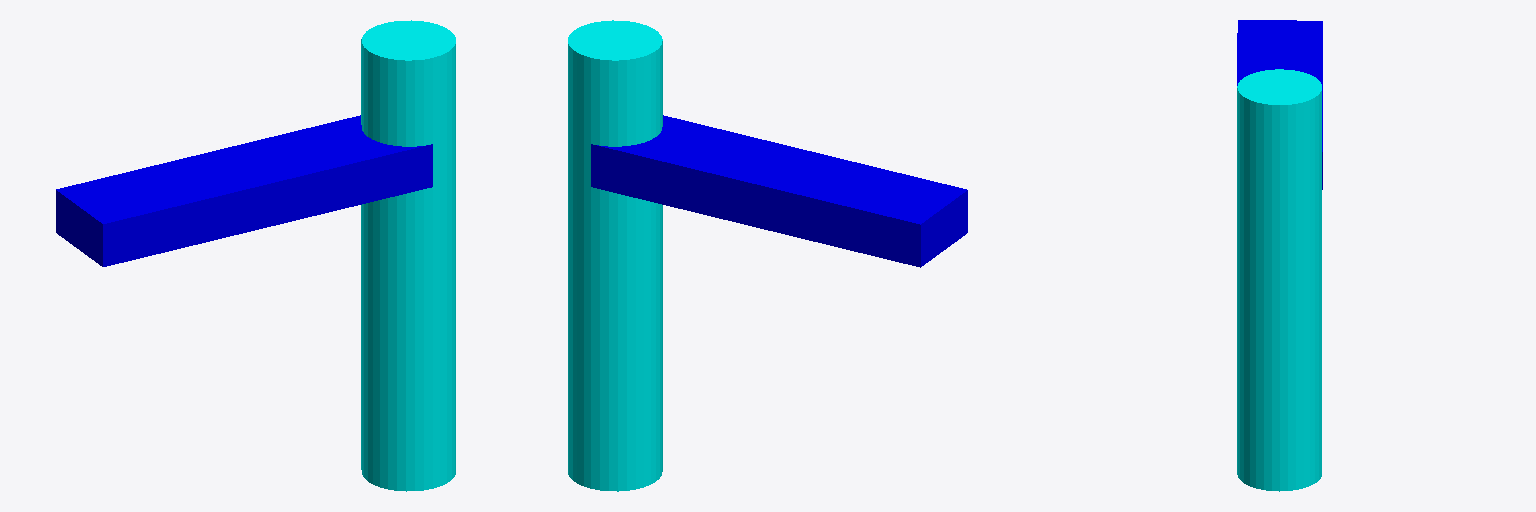
The robot description file, URDF, robot "mmp_panda":
<?xml version='1.0' encoding='utf-8'?>

<robot name="mmp_panda" version="1.0">

  <!-- GROUND LINK -->
  <link name ="ground_link">
    <inertial>
      <origin xyz="0.0 0.0 0.0" rpy="0 0 0" />
      <mass value="0.001" />
      <inertia ixx="1E-06" ixy="0.0" ixz="0.0" iyy="1E-06" iyz="0.0" izz="1E-06" />
    </inertial>
  </link>


  <!-- MOBILE BASE LINKS -->
  <link name ="base_x">
    <inertial>
      <origin xyz="0.0 0.0 0.0" rpy="0 0 0" />
      <mass value="0.001" />
      <inertia ixx="1E-06" ixy="0.0" ixz="0.0" iyy="1E-06" iyz="0.0" izz="1E-06" />
    </inertial>
  </link>

  <link name = "base_y">
    <inertial>
      <origin xyz="0.0 0.0 0.0" rpy="0 0 0" />
      <mass value = "0.001" />
      <inertia ixx="1E-06" ixy="0.0" ixz="0.0" iyy="1E-06" iyz="0.0" izz="1E-06" />
    </inertial>
  </link>

  <link name = "base_theta">
    <inertial>
      <origin xyz="0.0 0.0 0.0" rpy="0 0 0" />
      <mass value = "2230" />
      <inertia ixx="285" ixy="0.0" ixz="0.0" iyy="546" iyz="0.0" izz="700" />
    </inertial>
    <visual>
      <geometry>
        <mesh filename="../../../model/jointcart2/joint cart2.obj" />
      </geometry>
    </visual>
  </link>


  <!-- MOBILE BASE + LINK 0 OF PANDA ARM -->
  <link name = "base_fix">
    <inertial>
      <origin xyz="0.0 0.0 0.0" rpy="0 0 0" />
      <mass value = "0.001" />
      <inertia ixx="1E-06" ixy="0.0" ixz="0.0" iyy="1E-06" iyz="0.0" izz="1E-06" />
    </inertial>
  </link>

  <!--<link name = "base_z">
    <inertial>
      <origin xyz="0.0 0.0 0.0" rpy="0 0 0" />
      <mass value = "64.6" />
      <inertia ixx="1.721" ixy="0.0" ixz="0.0" iyy="1.712" iyz="0.0" izz="2.030" />
    </inertial>
    <visual>
      <geometry>
        <mesh filename="../../../model/jointcart2/joint cart2.obj" />
      </geometry>
    </visual>
  </link> -->

<!-- PRISMATIC LINK -->
  <link name="linkTool">
    <inertial>
      <origin xyz="0 0 0" rpy="0 0 0" />
      <mass value="0.02" />
      <inertia ixx="0.3" iyy="0.3" izz="0.3" ixy="0" ixz="0" iyz="0" />
    </inertial>

    <visual>
      <origin xyz="0.0 0.0 0.0" rpy="0 0 0" />
      <geometry>
        <cylinder radius="0.01" length="0.1" />
      </geometry>
        <material name="material_cyan">
          <color rgba="0 1.0 1.0 1.0" />
        </material>
    </visual>
    <visual>
      <origin xyz="0.04 0.0 0.025" rpy="0 0 0" />
      <geometry>
        <box size="0.08 0.02 0.01" />
      </geometry>
        <material name="material_blue">
          <color rgba="0 0 1 1"/>
        </material>
    </visual>

    <collision>
      <origin xyz="0.0 0.0 0.0" rpy="0 0 0" />
      <geometry>
        <cylinder radius="0.01" length="0.1" />
      </geometry>
        <material name="material_cyan">
          <color rgba="0 1.0 1.0 1.0" />
        </material>
    </collision>
    <collision>
      <origin xyz="0.04 0.0 0.025" rpy="0 0 0" />
      <geometry>
        <box size="0.08 0.02 0.01" />
      </geometry>
        <material name="material_blue">
          <color rgba="0 0 1 1"/>
        </material>
    </collision>
  </link>

  <!-- JOINTS -->
  <joint name = "base_prismatic_x" type = "prismatic">
    <origin xyz = "0 0 0" rpy = "0 0 0"/>
    <parent link = "ground_link" />
    <child link= "base_x"/>
    <axis xyz = "1 0 0" />
    <calibration rising="0.0" />
    <limit effort="87" lower="-5" upper="5" velocity="0.2" />
  </joint>

  <joint name = "base_prismatic_y" type = "prismatic">
    <origin xyz = "0 0 0" rpy = "0 0 0"/>
    <parent link = "base_x" />
    <child link= "base_y"/>
    <axis xyz = "0 1 0" />
    <calibration rising="0.0" />
    <limit effort="87" lower="-5" upper="5" velocity="0.2" />
  </joint>

  <joint name = "base_revolute" type = "revolute">
    <origin xyz = "0 0 0.0" rpy = "0 0 0"/>
    <parent link = "base_y" />
    <child link= "base_theta"/>
    <axis xyz = "0 0 1" />
    <calibration falling="0.0" />
    <limit effort="87" lower="-2.8973" upper="2.8973" velocity="2.1750" />
  </joint>

  <joint name = "base_fixed" type = "fixed">
    <origin xyz = "0 0 0" rpy = "0 0 1.57079632679"/>
    <parent link = "base_theta" />
    <child link= "base_fix"/>
    <axis xyz = "0 0 1" />
    <calibration rising="0.0" />
    <limit effort="87" lower="0" upper="2.0" velocity="0.2" />
  </joint>

  <!--<joint name = "base_prismatic_z" type = "prismatic">
    <origin xyz = "0 0 0" rpy = "0 0 0"/>
    <parent link = "base_fix" />
    <child link= "base_z"/>
    <axis xyz = "0 0 1" />
    <calibration rising="0.0" />
    <limit effort="87" lower="0" upper="2.0" velocity="0.2" />
  </joint> -->

  <joint name = "jointTool" type = "prismatic">
    <origin xyz = "0 0 0" rpy = "0 0 1.57"/>
    <parent link = "base_fix" />
    <child link= "linkTool"/>
    <axis xyz = "0 0 1" />
    <calibration rising="0.0" />
    <limit effort="87" lower="0" upper="2.0" velocity="0.2" />
  </joint>


</robot>

--- What the picture shows (computed from the rendered views, not written in the file) ---
Views: 3 orthographic renders of the robot side by side, from view 1: azimuth 30°, elevation 25°; view 2: azimuth 150°, elevation 25°; view 3: azimuth 270°, elevation 25°.
Robot: mmp_panda — 6 links, 5 joints (1 revolute, 3 prismatic, 1 fixed); root link ground_link; default pose: all joints at 0.
Links seen in each view (by area): view 1: linkTool; view 2: linkTool; view 3: linkTool.
Link boxes in pixels (x1,y1,x2,y2): linkTool: (56, 20, 455, 491); linkTool: (568, 20, 967, 491); linkTool: (1237, 20, 1322, 491).
Size in the robot's own frame: 0.09 by 0.0201 by 0.1 metres.
Geometry: only primitive shapes (box / cylinder / sphere) drawn; not drawn: 1 mesh visual (reference in a form the renderer does not follow).